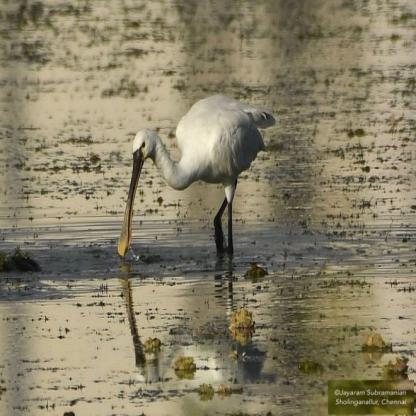Burung: (115, 96, 276, 262)
